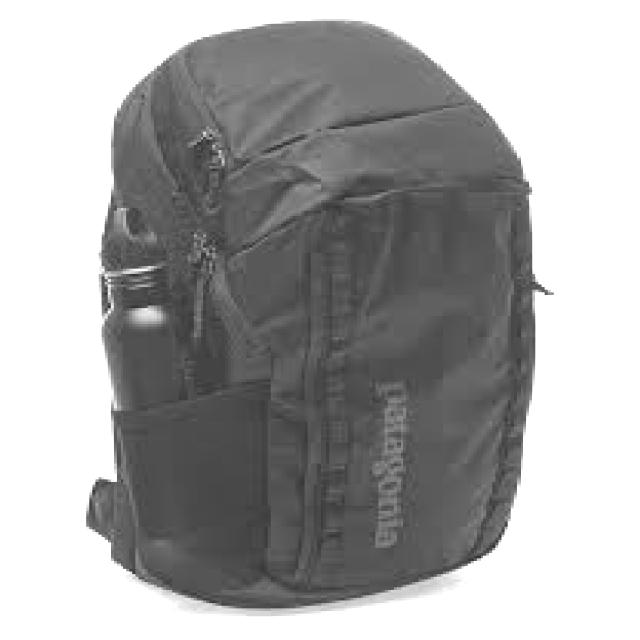backpack: (85, 17, 549, 609)
